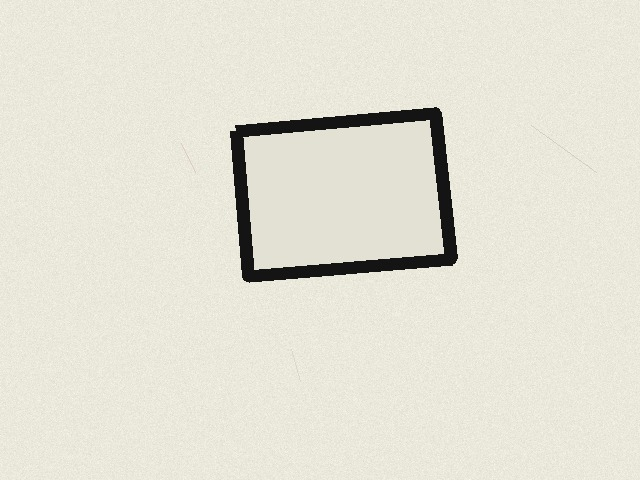parking_area: (236, 113, 451, 276)
